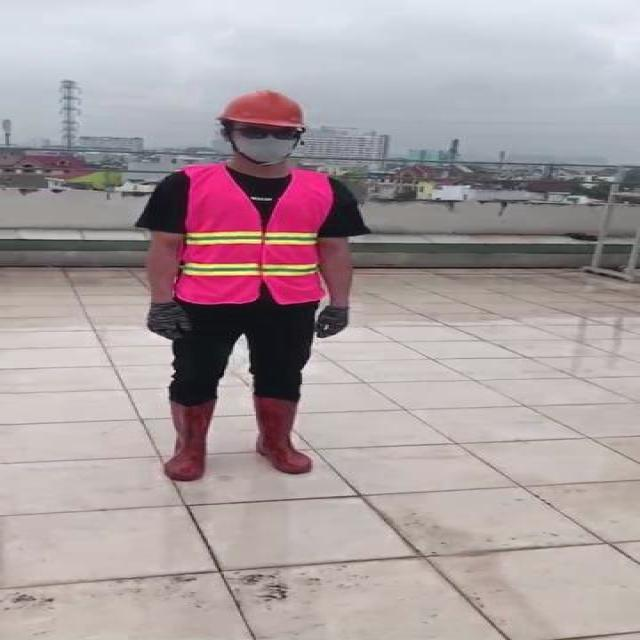boots: (250, 397, 314, 474), (163, 399, 220, 482)
face_mask: (228, 125, 302, 164)
glasses: (232, 125, 301, 143)
hand_glove: (146, 303, 188, 346), (315, 306, 352, 340)
head_helmet: (214, 88, 310, 130)
person: (135, 86, 370, 484)
vest: (164, 167, 338, 305)
